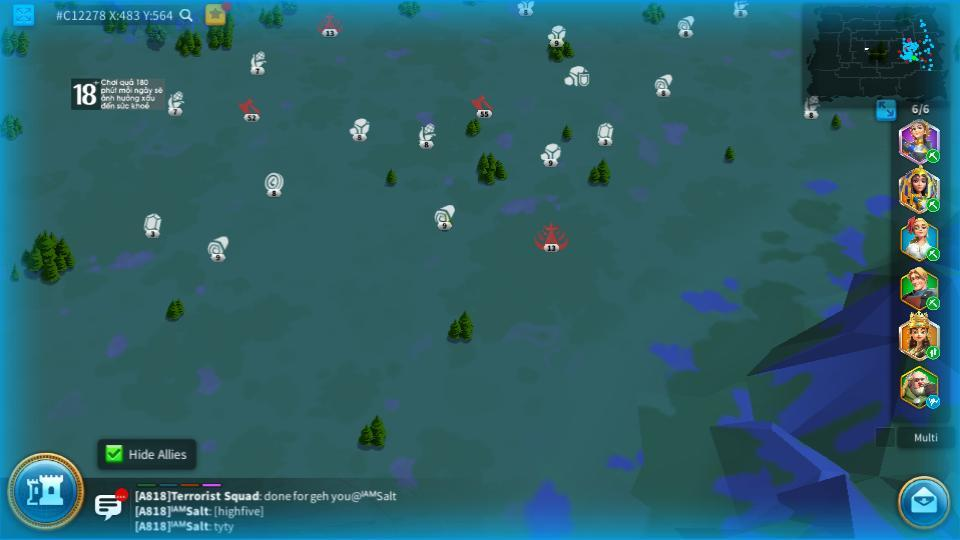gem-z-out: (141, 213, 162, 237), (596, 122, 614, 143)
march_idle: (925, 396, 941, 408)
march_marching: (924, 197, 939, 212), (925, 345, 941, 359), (925, 297, 941, 309)
